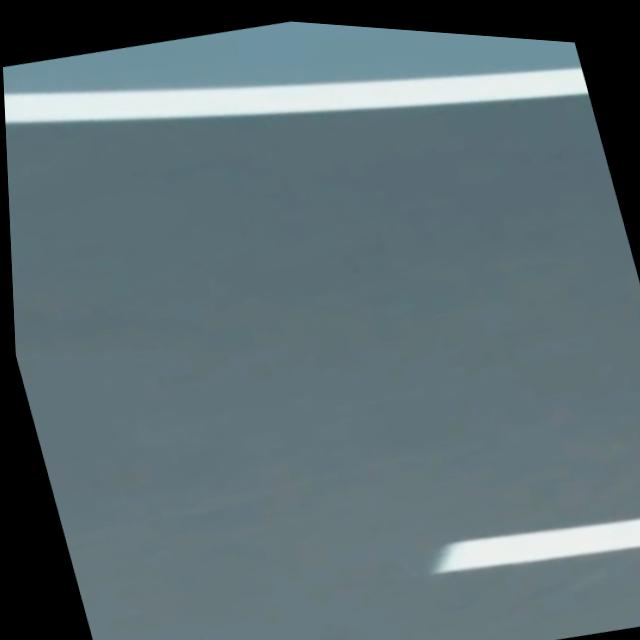center: (435, 516, 640, 571)
left: (4, 66, 588, 120)
